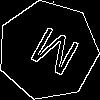M: (23, 25, 82, 86)
